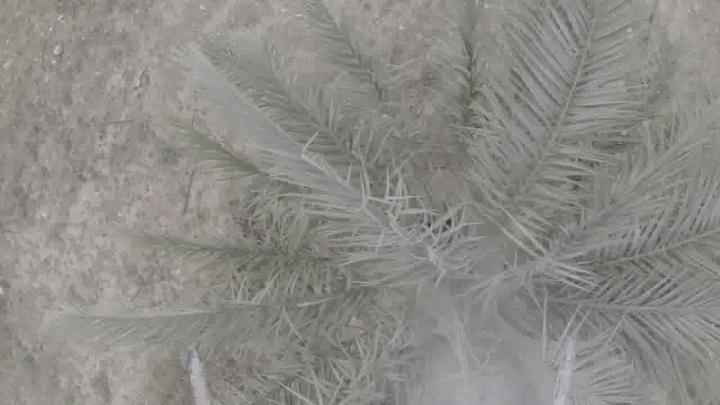Date-Palm-Crown: (278, 47, 660, 404)
